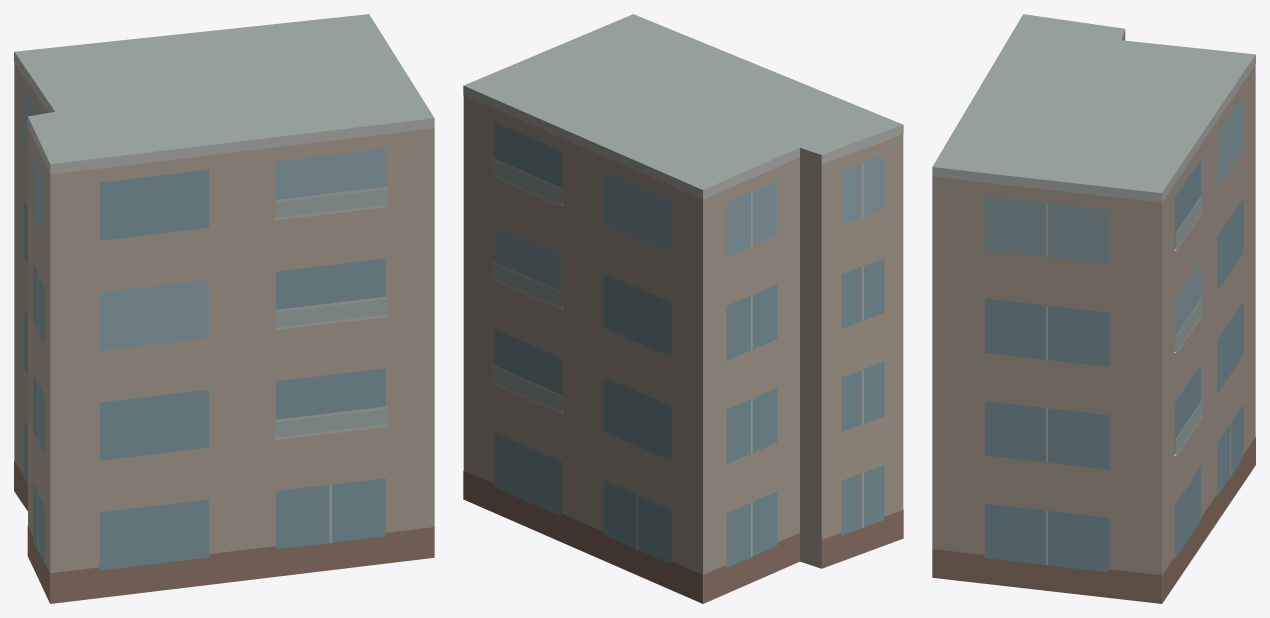
Rendered from survey-upis-32749989.glb.
3 views of the same model, side by side, from view 1: azimuth 30°, elevation 25°; view 2: azimuth 150°, elevation 25°; view 3: azimuth 270°, elevation 25° (orthographic). The views are drawn at different scales.
Visible parts, largest first — view 1: survey-upis-32749989.tmp; view 2: survey-upis-32749989.tmp; view 3: survey-upis-32749989.tmp.
Boxes of the visible parts, box(x1,y1,x2,y2) form: survey-upis-32749989.tmp: box(14, 14, 434, 603); survey-upis-32749989.tmp: box(463, 14, 903, 603); survey-upis-32749989.tmp: box(932, 14, 1255, 603).
Bounding box in the file's own units: 9.84 × 10.5 × 7.51.
